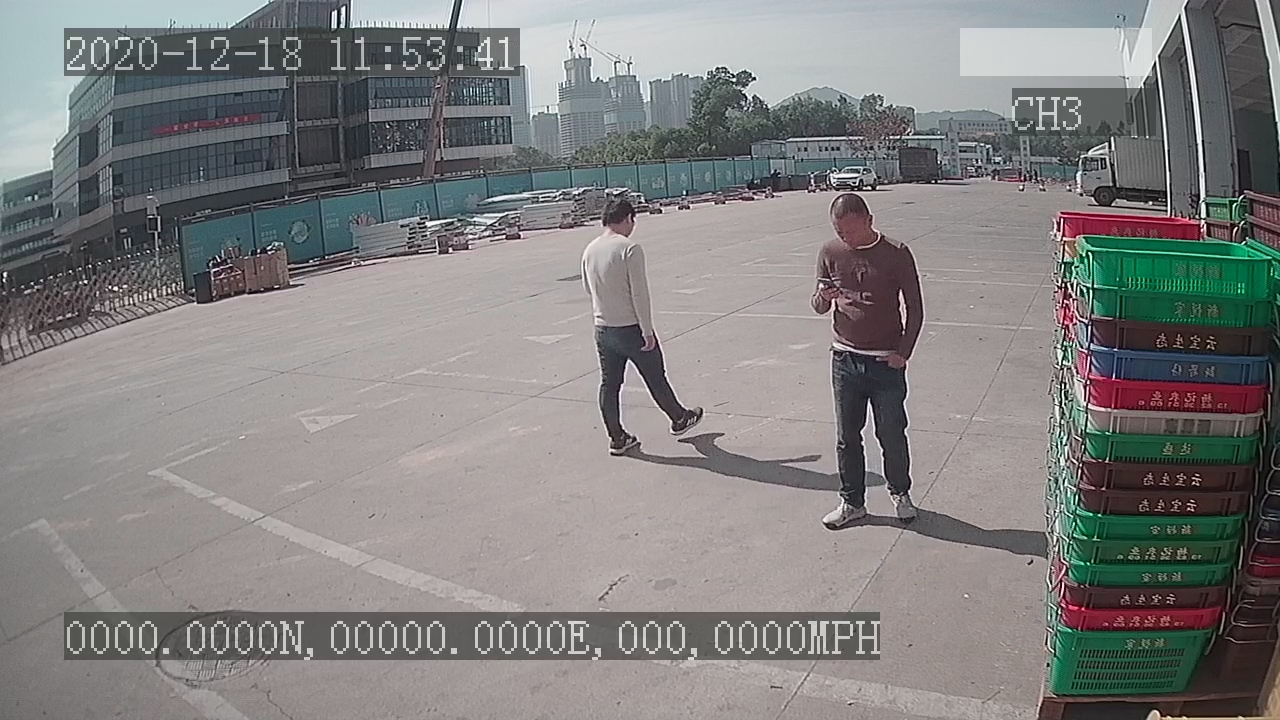person: (801, 188, 934, 531), (577, 194, 715, 458)
